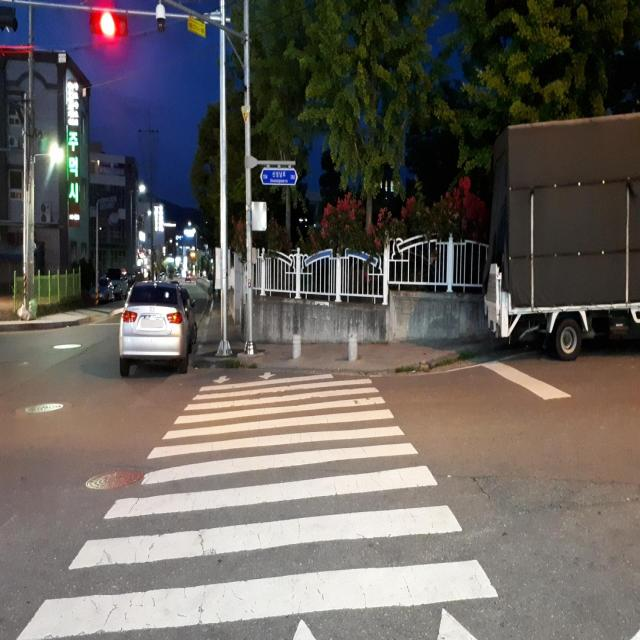횡단보도: (12, 361, 502, 640)
